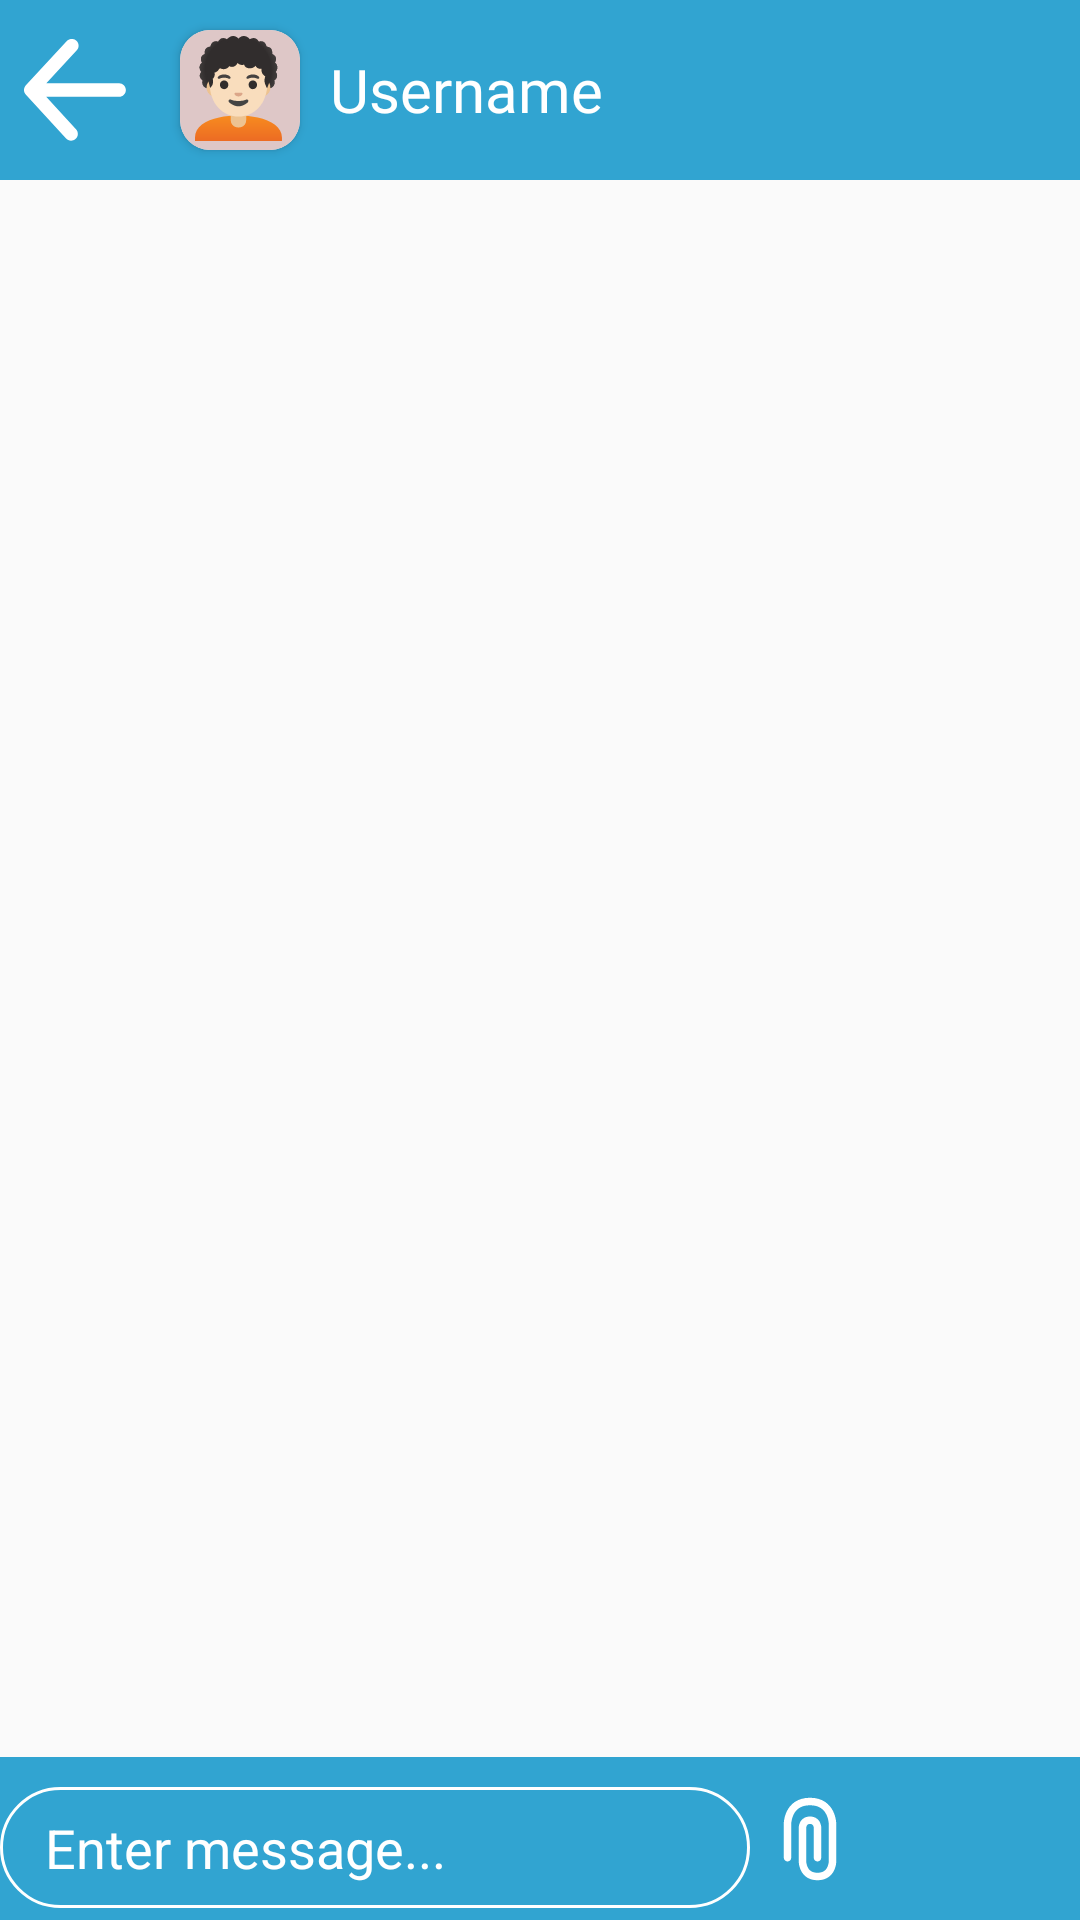

Icon bounding boxes for this 1080×1920 phone screenshot, format [left=x1, top=y1, right=x2, bottom=y2]:
attach: [left=783, top=1797, right=837, bottom=1881]
back: [left=24, top=39, right=126, bottom=141]
profile: [left=180, top=30, right=300, bottom=150]
